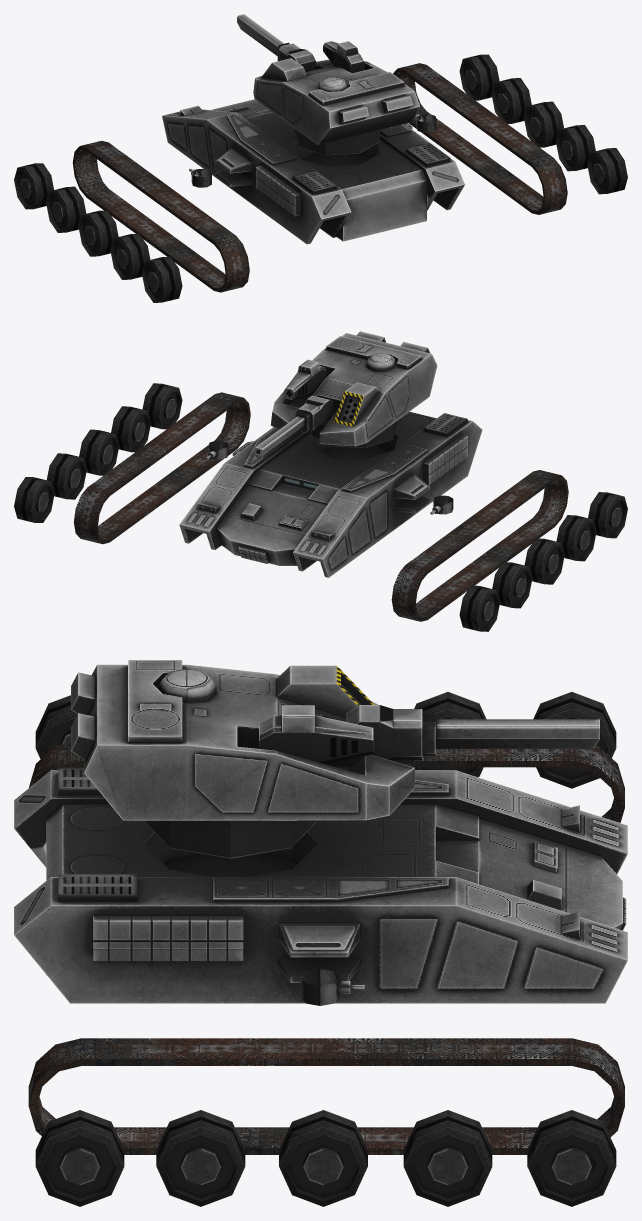
Rendered from Gurteltier explo.FBX.
The picture shows the model from 3 angles, top to bottom: view 1: azimuth 30°, elevation 25°; view 2: azimuth 150°, elevation 25°; view 3: azimuth 270°, elevation 25°; orthographic projection. The views are drawn at different scales.
Visible parts, largest first — view 1: body, turret, trackr, trackl, wheel10, wheel5, wheel7, wheel6, wheel8, wheel1, wheel2, wheel9 (+5 smaller); view 2: body, turret, trackr, trackl, wheel6, wheel1, wheel8, wheel2, wheel7, wheel9, wheel3, wheel10 (+5 smaller); view 3: body, turret, trackl, wheel4, wheel1, wheel5, wheel2, wheel3, trackr, barrel_1, mantlet_2, mantlet_1 (+4 smaller).
Boxes of the visible parts, <box> form: body: <box>162,99,464,244</box>; turret: <box>253,58,419,155</box>; trackr: <box>72,140,249,292</box>; trackl: <box>393,63,567,214</box>; wheel10: <box>142,256,182,302</box>; wheel5: <box>587,148,627,194</box>; wheel7: <box>46,186,86,232</box>; wheel6: <box>14,163,53,209</box>; wheel8: <box>78,210,118,256</box>; wheel1: <box>459,54,499,100</box>; wheel2: <box>491,78,531,123</box>; wheel9: <box>110,233,150,279</box>; body: <box>179,411,482,577</box>; turret: <box>270,331,437,447</box>; trackr: <box>391,470,568,621</box>; trackl: <box>73,392,250,544</box>; wheel6: <box>459,585,499,631</box>; wheel1: <box>14,477,54,522</box>; wheel8: <box>524,538,564,584</box>; wheel2: <box>47,453,86,499</box>; wheel7: <box>492,562,532,608</box>; wheel9: <box>556,515,596,561</box>; wheel3: <box>79,429,119,475</box>; wheel10: <box>588,492,627,538</box>; body: <box>14,767,627,1003</box>; turret: <box>71,660,414,858</box>; trackl: <box>28,1038,624,1154</box>; wheel4: <box>156,1110,245,1206</box>; wheel1: <box>527,1110,616,1206</box>; wheel5: <box>35,1110,124,1206</box>; wheel2: <box>403,1110,492,1206</box>; wheel3: <box>279,1110,367,1206</box>; trackr: <box>29,742,624,822</box>; barrel_1: <box>435,719,599,748</box>; mantlet_2: <box>259,705,373,764</box>; mantlet_1: <box>346,705,435,760</box>.
Size of the model in its own units: 108 by 34.93 by 63.98.
1 material, 1 textured.
